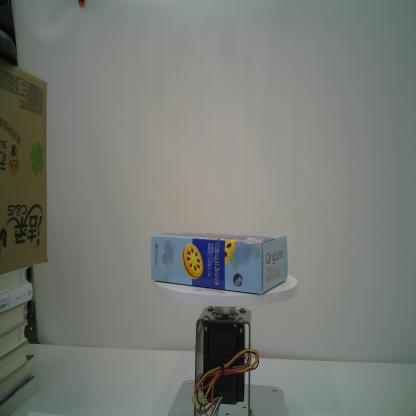Dessert: (150, 231, 288, 294)
